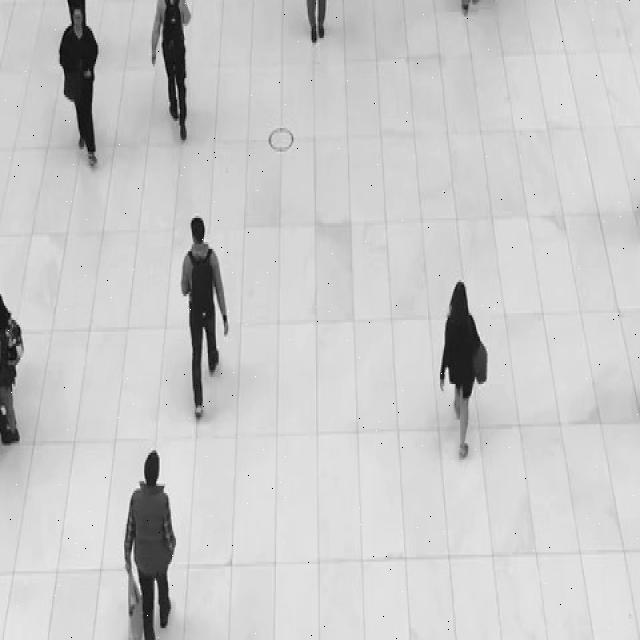human: (117, 410, 191, 640), (180, 228, 257, 394), (435, 267, 490, 477), (63, 30, 100, 172), (161, 0, 196, 135), (608, 66, 640, 208), (294, 0, 350, 73), (458, 0, 473, 36)
